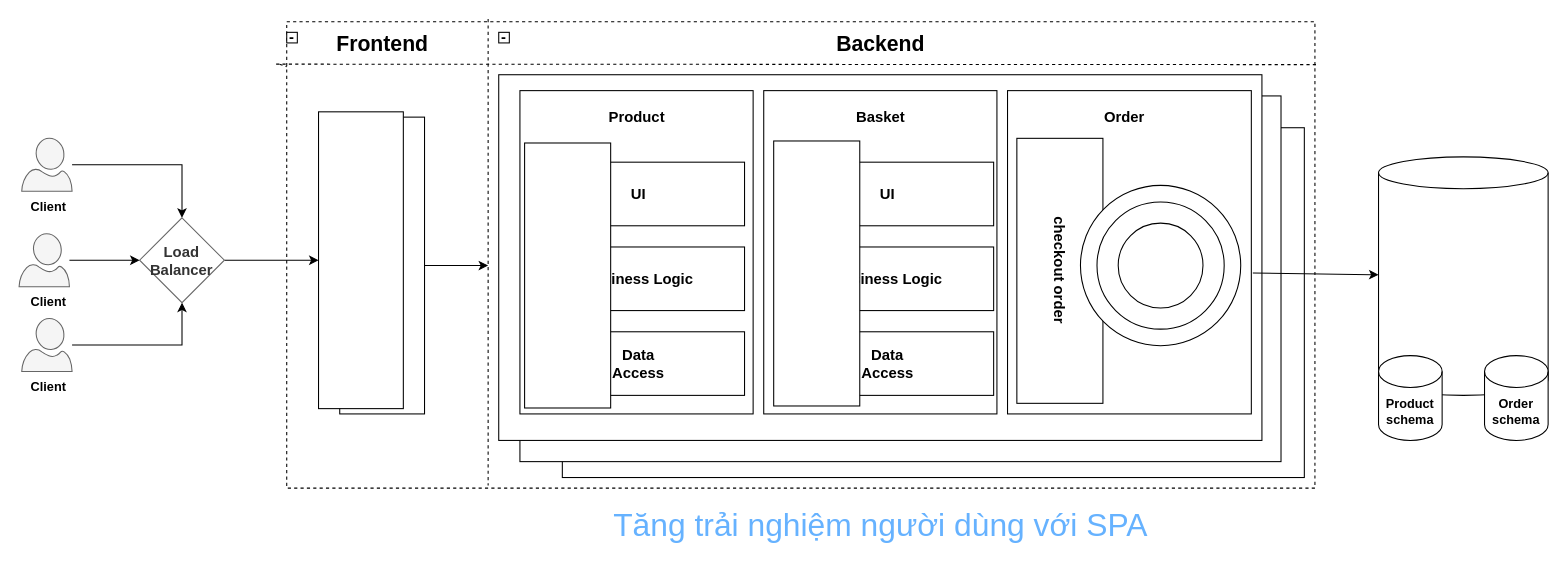
Some shapes in this 1567 by 569 pixel diagram are drawn without their labels. The centre of each missing label's shape, as x and y in pixels:
add to basket: point (816, 273)
Clean Architecture: point (1160, 265)
Listing Products: point (567, 275)
RDBMS: point (1462, 275)
UI SPA: point (360, 260)
